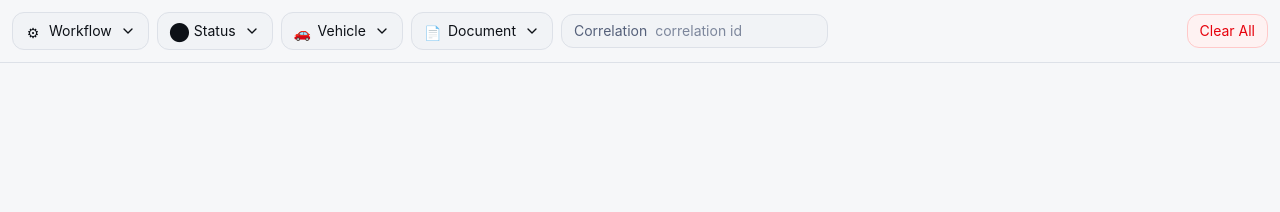
Test: Workflow Monitor filter dropdowns › closes the menu on Escape
The width and height of the screenshot is (1280, 212).
Click the button with aria-label "filter by workflow". click: (80, 31)
box: [12,12,149,50]
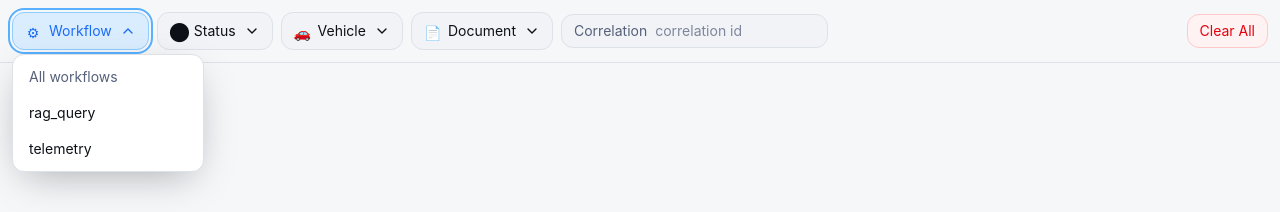
Now the button "All workflows" is shown, box [17,59,199,95]
Press Escape
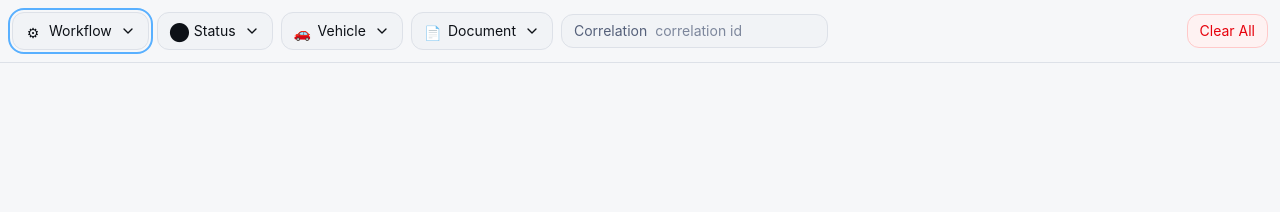
Now the button "All workflows" is gone
Now the button with aria-label "filter by workflow" is collapsed, box [12,12,149,50]
